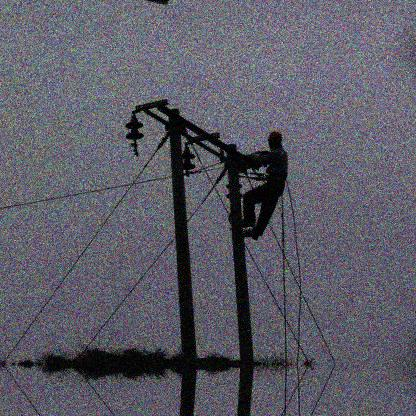helmet: (268, 131, 282, 150)
